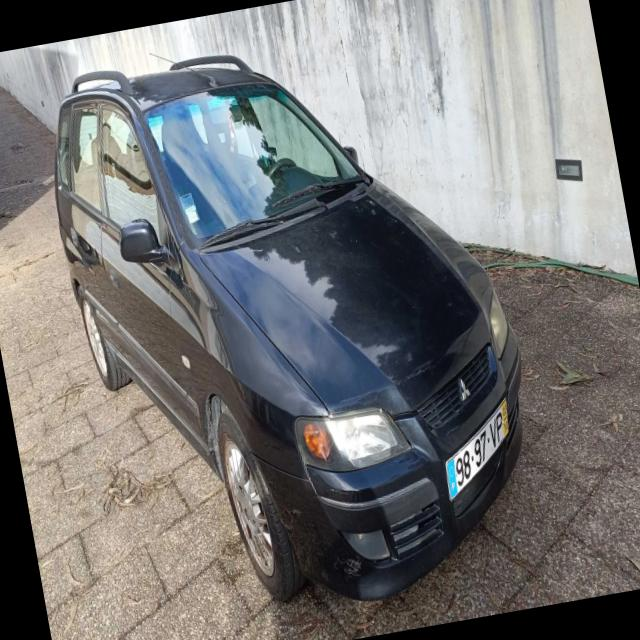portuguese-license-plates: (442, 393, 514, 510)
